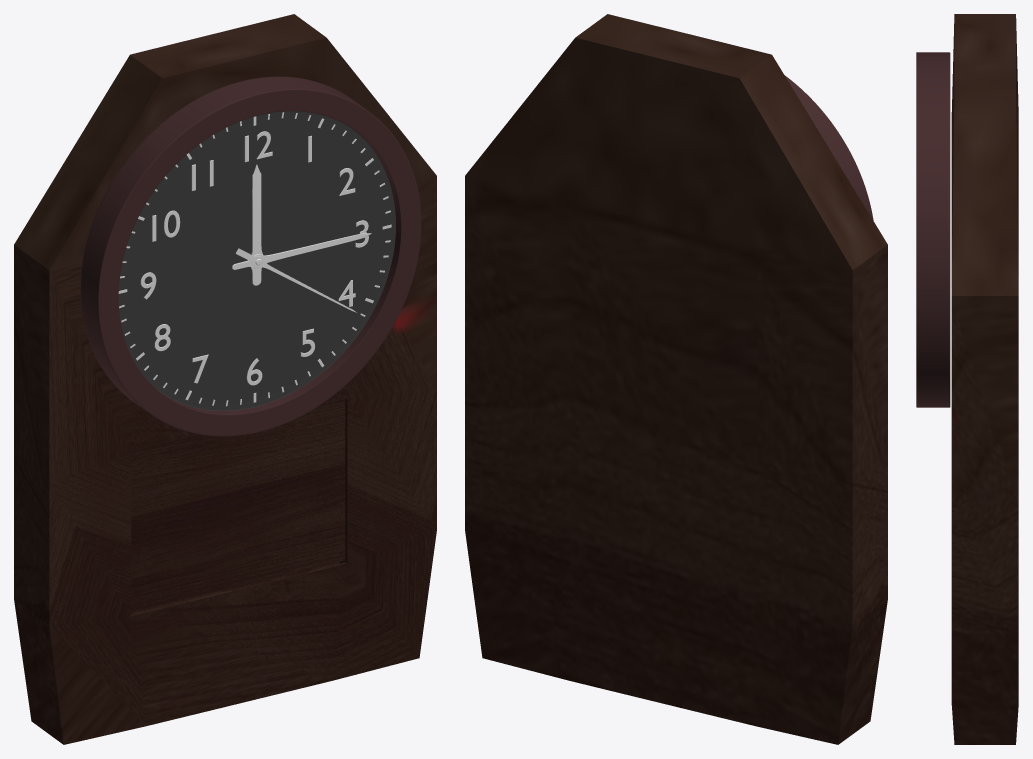
3 renders of one model, left to right at view 1: azimuth 30°, elevation 25°; view 2: azimuth 150°, elevation 25°; view 3: azimuth 270°, elevation 25°, orthographic. The views are drawn at different scales.
Parts seen in each view (by area): view 1: Cube, clock main_1, Cube.001, clock main_0, hour hand_0, minute hand_0; view 2: Cube, clock main_0; view 3: Cube, clock main_0.
Part boxes in pixels (x1,y1,x2,y2): Cube: (14, 14, 436, 744); clock main_1: (118, 111, 395, 410); Cube.001: (131, 400, 345, 612); clock main_0: (80, 76, 421, 436); hour hand_0: (251, 164, 262, 285); minute hand_0: (232, 233, 371, 269); Cube: (465, 14, 887, 744); clock main_0: (785, 75, 873, 220); Cube: (951, 14, 1018, 744); clock main_0: (916, 52, 950, 407).
Size of the model in its own units: 84.06 by 133 by 20.22.
5 materials, 1 textured.
